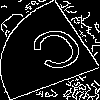C: (25, 24, 95, 82)
